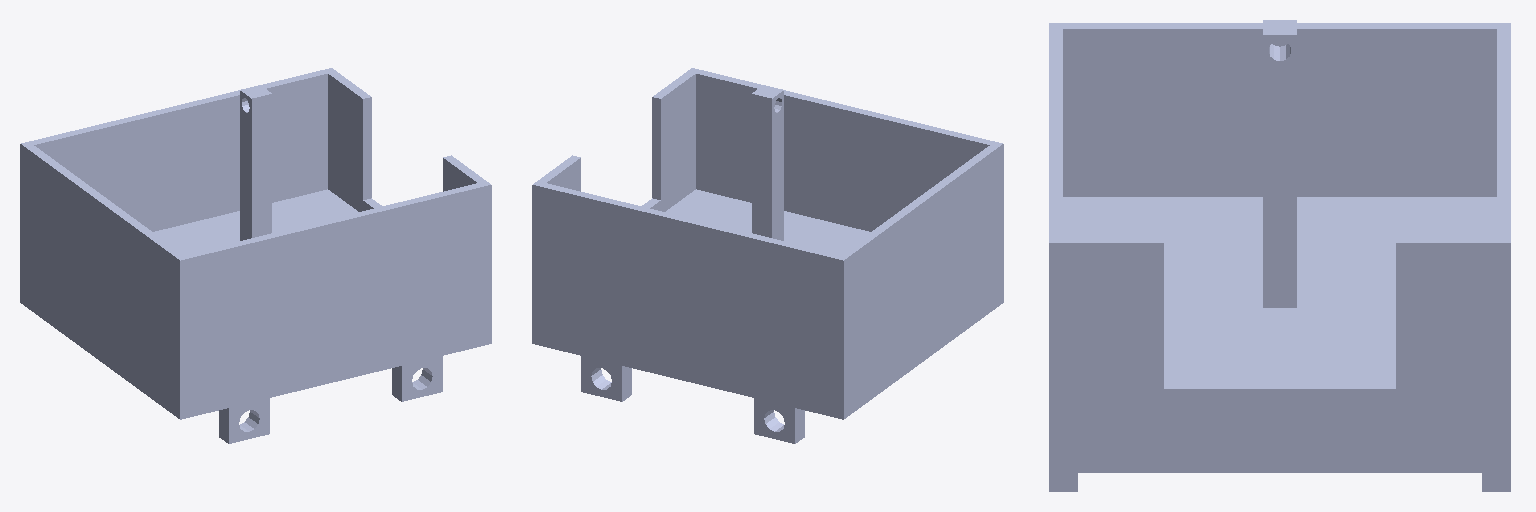
URDF robot description (Bot):
<?xml version="1.0" encoding="utf-8"?>

<robot name="Bot">
	<link name="base_link" >
    	<inertial>
      		<origin xyz="0 0 0" rpy="0 0 0" />
      		<mass value="15" />
      		<inertia
        		ixx="1.0"
        		ixy="1.0"
        		ixz="1.0"
        		iyy="1.0"
        		iyz="1.0"
        		izz="1.0" />
    	</inertial>
    	<visual>
    		<origin xyz="0 0 0" rpy="0 0 0" />
      		<geometry>
        		<mesh filename="package://Bot/meshes/base_link.STL" />
      		</geometry>
      		<material name="">
        		<color rgba="0.79216 0.81961 0.93333 1" />
      		</material>
    	</visual>
    	<collision>
      		<origin xyz="0 0 0" rpy="0 0 0" />
      		<geometry>
        		<mesh filename="package://Bot/meshes/base_link.STL" />
      		</geometry>
    	</collision>
  	</link>

</robot>

--- Render facts (derived) ---
The picture shows the robot from 3 angles, left to right: view 1: azimuth 30°, elevation 25°; view 2: azimuth 150°, elevation 25°; view 3: azimuth 270°, elevation 25°; orthographic projection.
Model Bot with 1 links and 0 joints (none), rooted at base_link, posed every joint at zero.
Links seen in each view (by area): view 1: base_link; view 2: base_link; view 3: base_link.
Boxes of the visible links, <box> form: base_link: <box>20,68,491,443</box>; base_link: <box>532,68,1003,443</box>; base_link: <box>1049,20,1510,491</box>.
Size in the robot's own frame: 0.45 by 0.4 by 0.37 metres.
Meshes: 1 distinct files referenced, 1 mesh visuals loaded (1 binary STL).